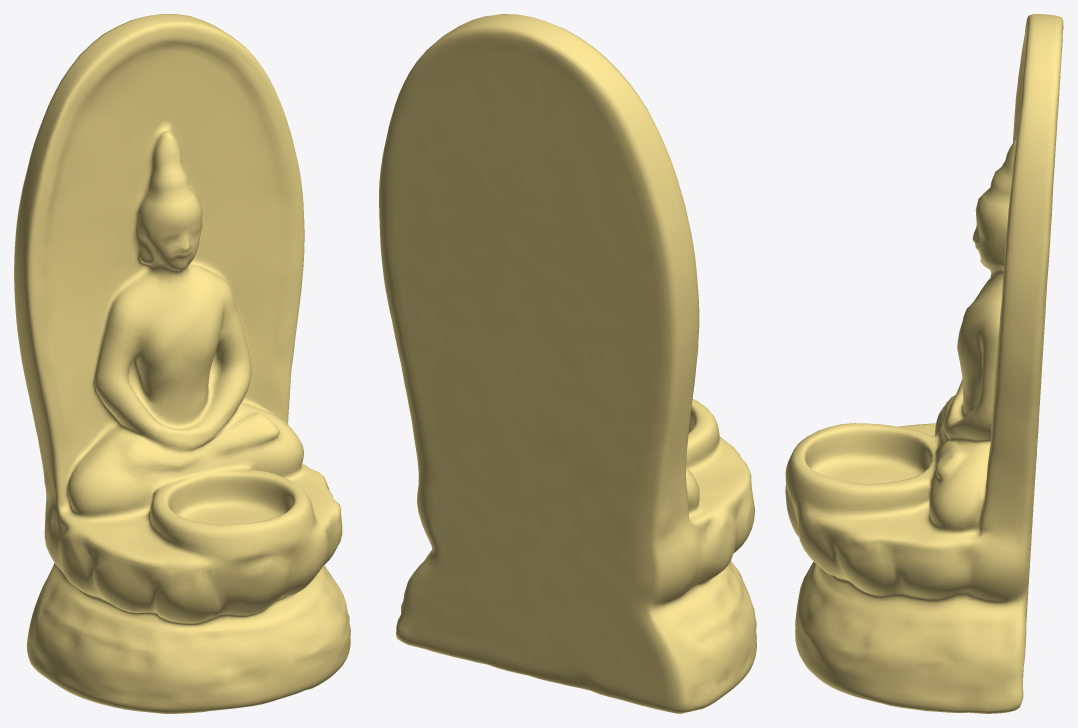
Rendered from buddha.glb.
3 views of the same model, side by side, from view 1: azimuth 30°, elevation 25°; view 2: azimuth 150°, elevation 25°; view 3: azimuth 270°, elevation 25° (orthographic). The views are drawn at different scales.
Parts seen in each view (by area): view 1: buddha_figure00006; view 2: buddha_figure00006; view 3: buddha_figure00006.
Part boxes in pixels (bbox=[...]): buddha_figure00006: bbox=[14, 14, 350, 713]; buddha_figure00006: bbox=[379, 14, 756, 713]; buddha_figure00006: bbox=[785, 14, 1063, 713].
Bounding box in the file's own units: 0.0101 × 0.0206 × 0.00836.
